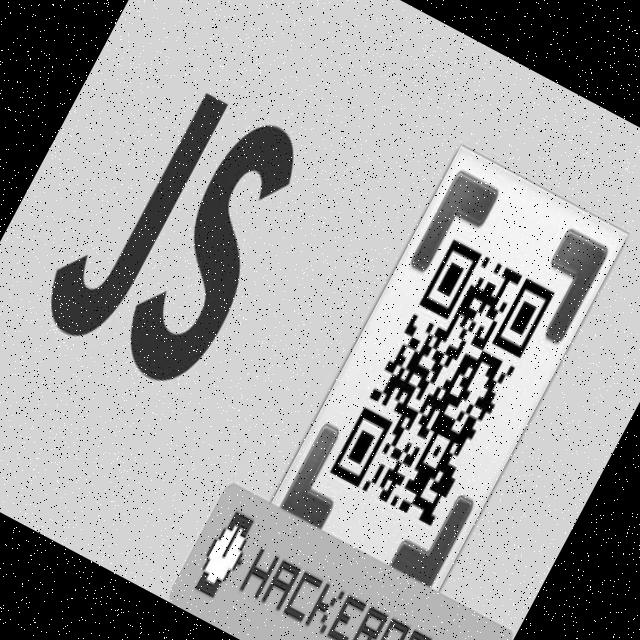QR-codes: (326, 235, 557, 528)
